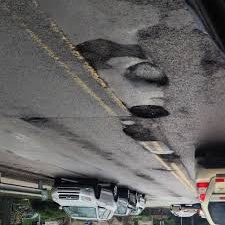pothole: (67, 28, 146, 73), (124, 99, 179, 120), (123, 61, 173, 82), (119, 123, 165, 144), (19, 111, 53, 125), (155, 151, 183, 163)
